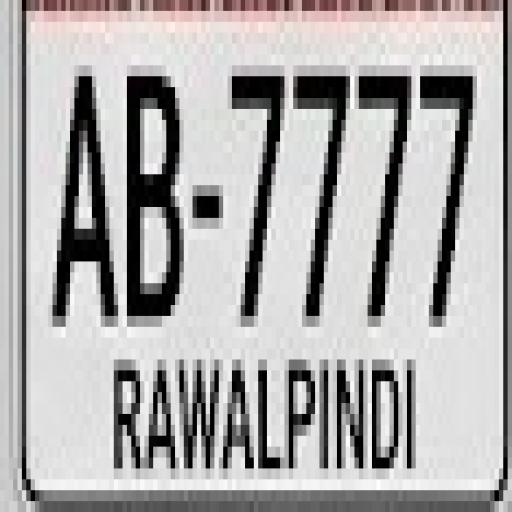7: (416, 58, 478, 347), (287, 62, 352, 336), (226, 68, 286, 319), (354, 79, 408, 332)
A: (48, 68, 119, 335)
B: (124, 64, 189, 328)
